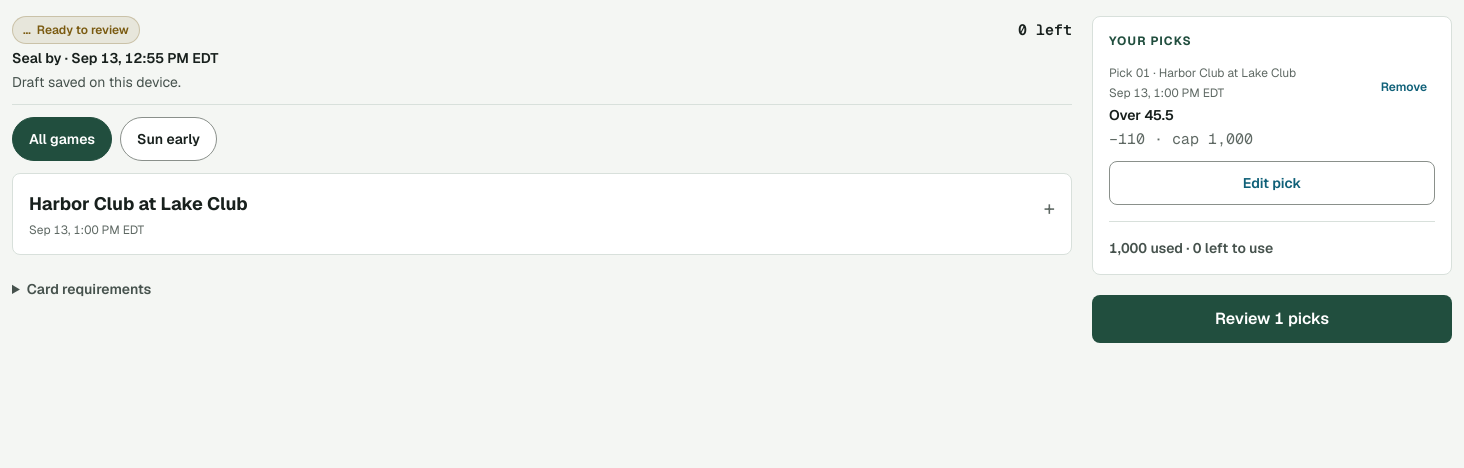
Scenario: authenticated card editor › shows a clean total on final review when the source has database-scale zeroes
expect the text "Over 45.5" is shown: met, box left=1109, top=106, right=1174, bottom=124
Click the button "Review 1 picks" at (1272,319), box left=1092, top=295, right=1452, bottom=343
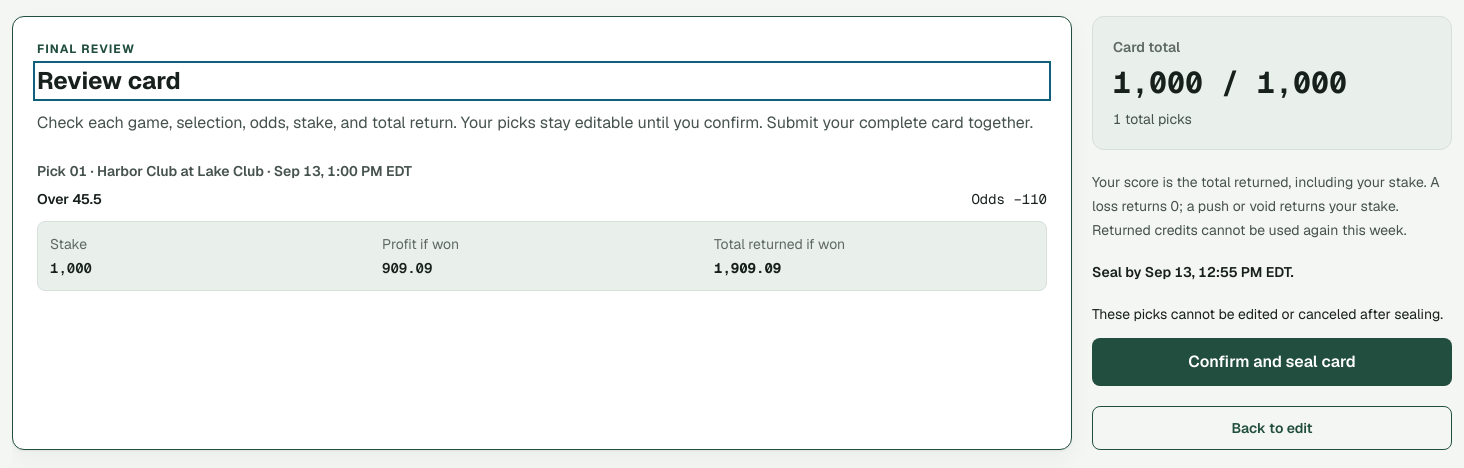
expect the text "Over 45.5" is shown: met, box left=37, top=189, right=102, bottom=209
expect the heading "Review card" is shown: met, box left=37, top=65, right=181, bottom=96
